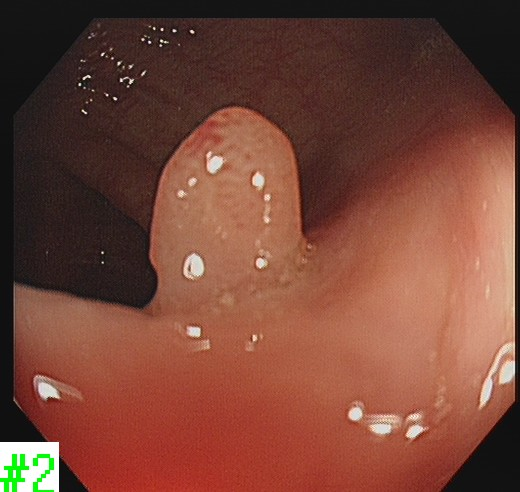adenoma: (145, 102, 307, 306)
